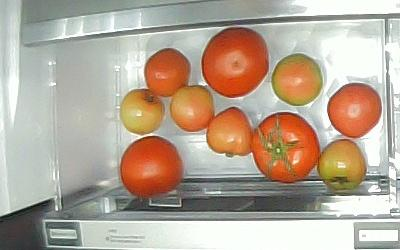tomato: (251, 112, 321, 183), (202, 27, 270, 98), (121, 136, 183, 199), (328, 83, 383, 138), (272, 53, 323, 106), (317, 139, 367, 192), (206, 106, 253, 158), (144, 48, 191, 97), (120, 89, 165, 135), (170, 86, 214, 132)
